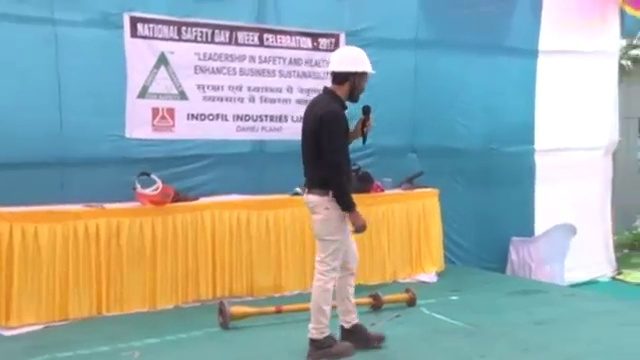helmet: (326, 44, 377, 76)
helmet_on: (325, 44, 376, 109)
person: (293, 43, 392, 358)
